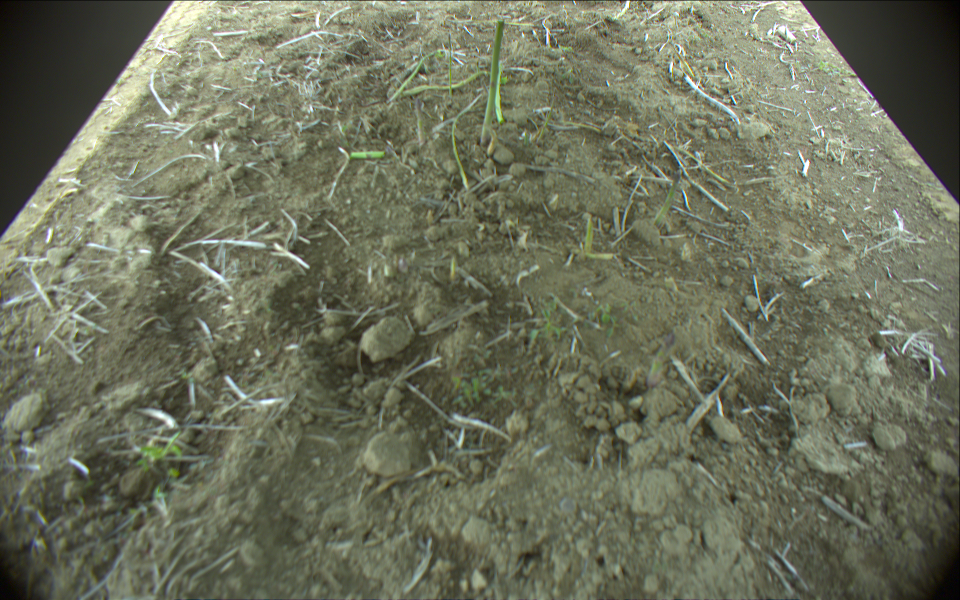aspa: (478, 20, 504, 147), (449, 92, 482, 187), (386, 50, 439, 103), (400, 70, 488, 98), (650, 171, 683, 227), (488, 63, 507, 123), (447, 31, 458, 101), (584, 216, 596, 254), (349, 150, 386, 159)
